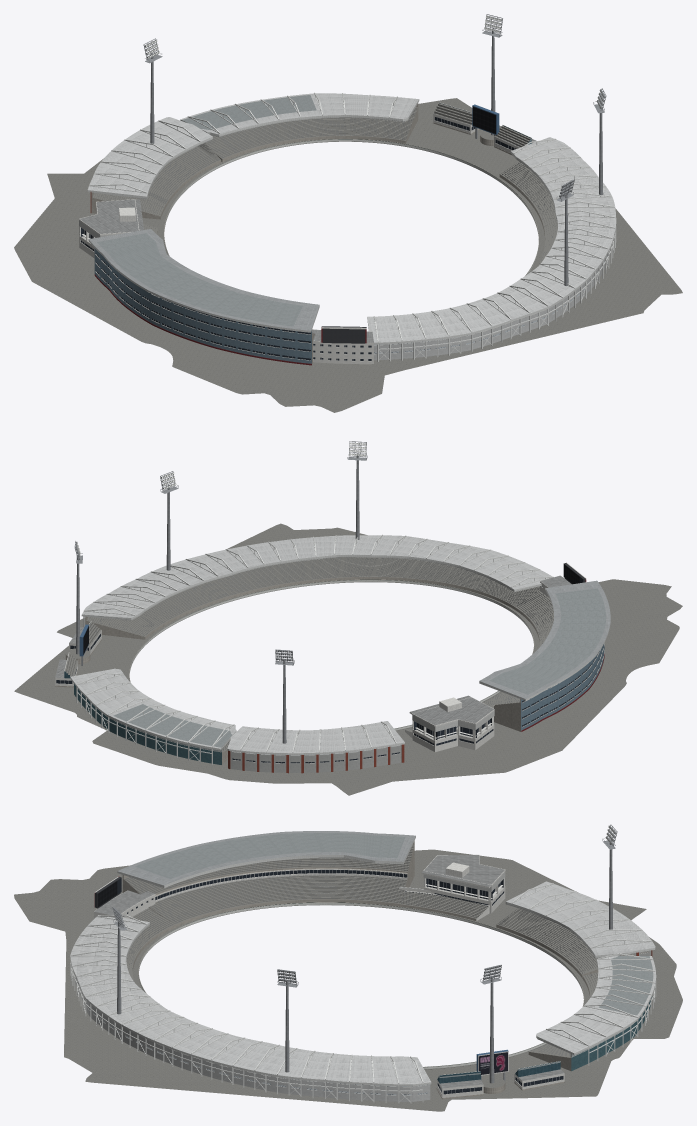
File: york_park.glb
3 views of the same model, one above another, from view 1: azimuth 30°, elevation 25°; view 2: azimuth 150°, elevation 25°; view 3: azimuth 270°, elevation 25° (orthographic). The views are drawn at different scales.
Parts seen in each view (by area): view 1: roofs, concourse, stands, extras, towers, seat_posts, fence; view 2: roofs, concourse, stands, seat_posts, towers, extras, fence; view 3: roofs, stands, concourse, extras, seat_posts, towers, fence.
Boxes of the visible parts, x1,y1,x2,y2 form: roofs: (87,92,616,361); concourse: (14,98,682,412); stands: (79,103,611,365); extras: (321,102,536,343); towers: (143,14,606,285); seat_posts: (94,103,556,333); fence: (164,139,538,275); roofs: (70,534,610,765); concourse: (14,523,682,795); stands: (74,557,604,773); seat_posts: (67,557,552,750); towers: (74,441,367,743); extras: (55,562,586,687); fence: (129,579,534,730); roofs: (70,831,656,1103); stands: (75,841,652,1101); concourse: (14,849,682,1111); extras: (94,876,564,1099); seat_posts: (126,851,597,1055); towers: (112,824,617,1083); fence: (138,902,584,1069).
Size of the model in its own units: 235 by 51.36 by 253.
Materials: 35 (35 with a texture image).
